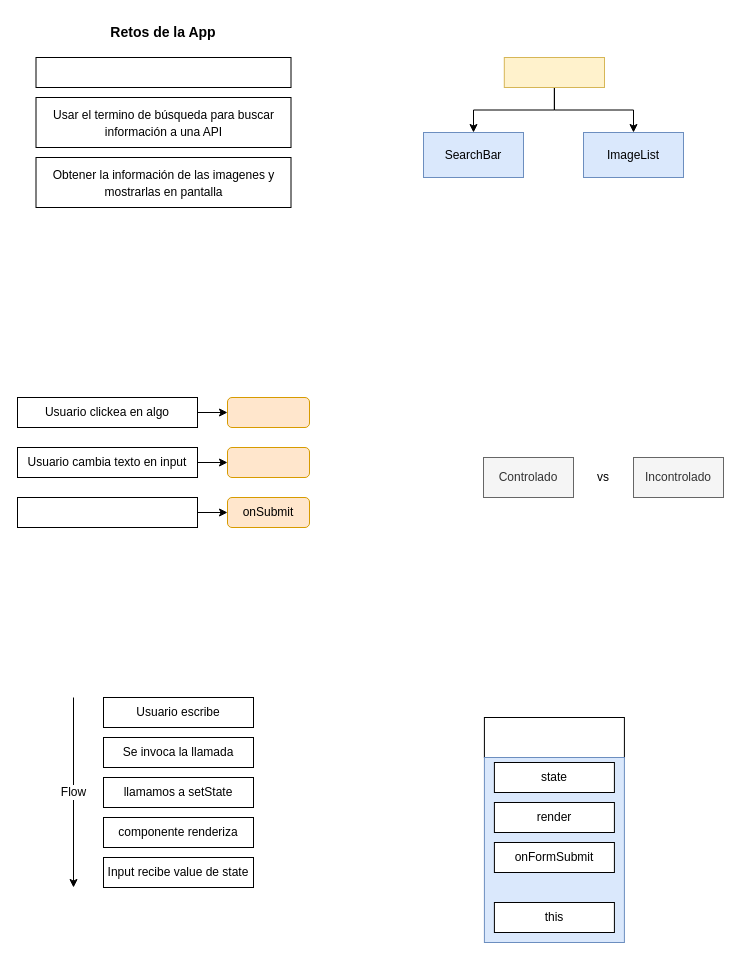
This 741x960 diagram has some shape labels left out. Here are the shapes that lost their labels. From the top down, the centre of each, then its label:
the point at 163,72: Obtener el termino de búsqueda del usuario
the point at 553,72: App
the point at 268,412: onClick
the point at 268,462: onChange
the point at 107,512: Usuario sube un formulario
the point at 553,737: Clase
